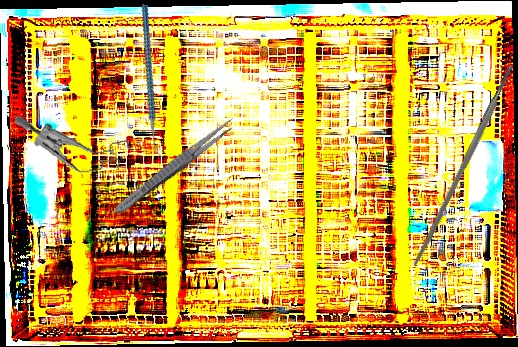Chopper: (105, 3, 202, 159)
Dressing Forceps: (110, 114, 239, 219)
Scalpel Handle: (411, 63, 517, 268)
Speculum: (14, 101, 136, 183)
